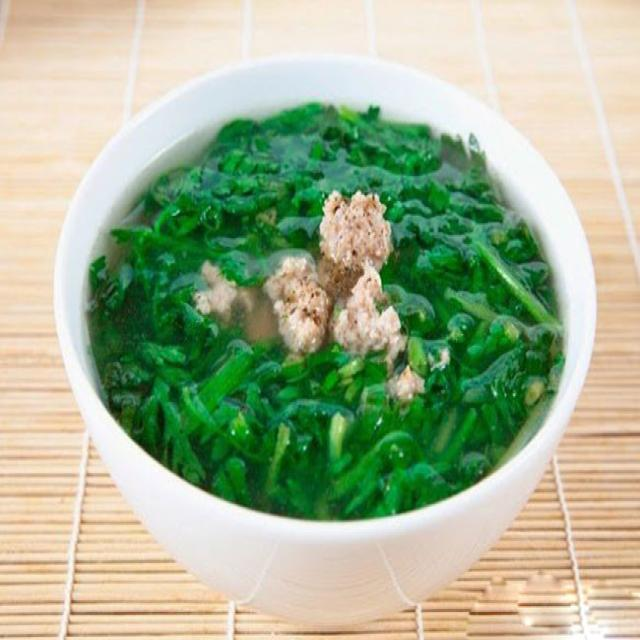canh cai: (84, 102, 566, 517)
